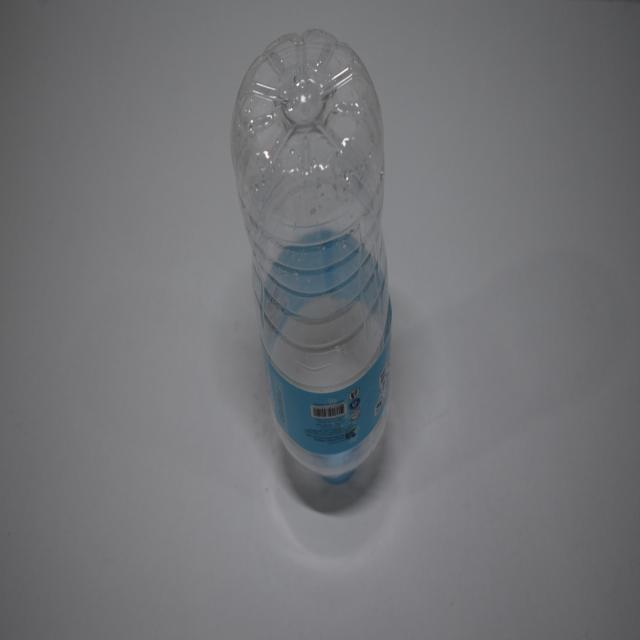empty: (231, 30, 392, 481)
